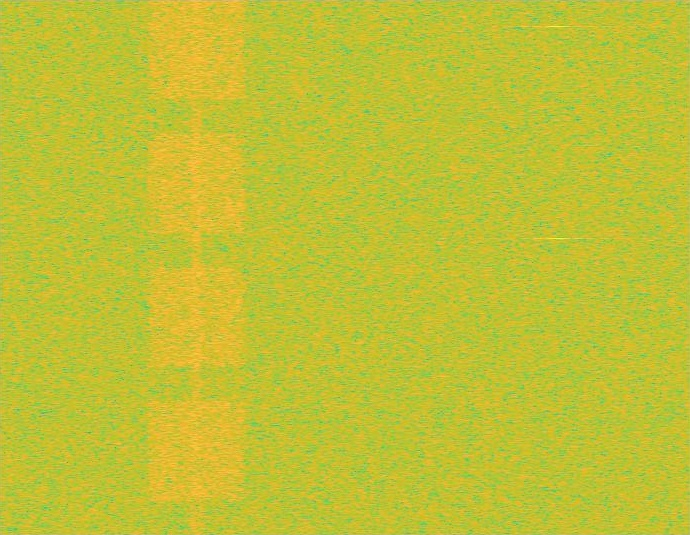5G: (145, 0, 248, 534)
DSSS: (190, 0, 204, 534)
Radar: (551, 0, 565, 534)
